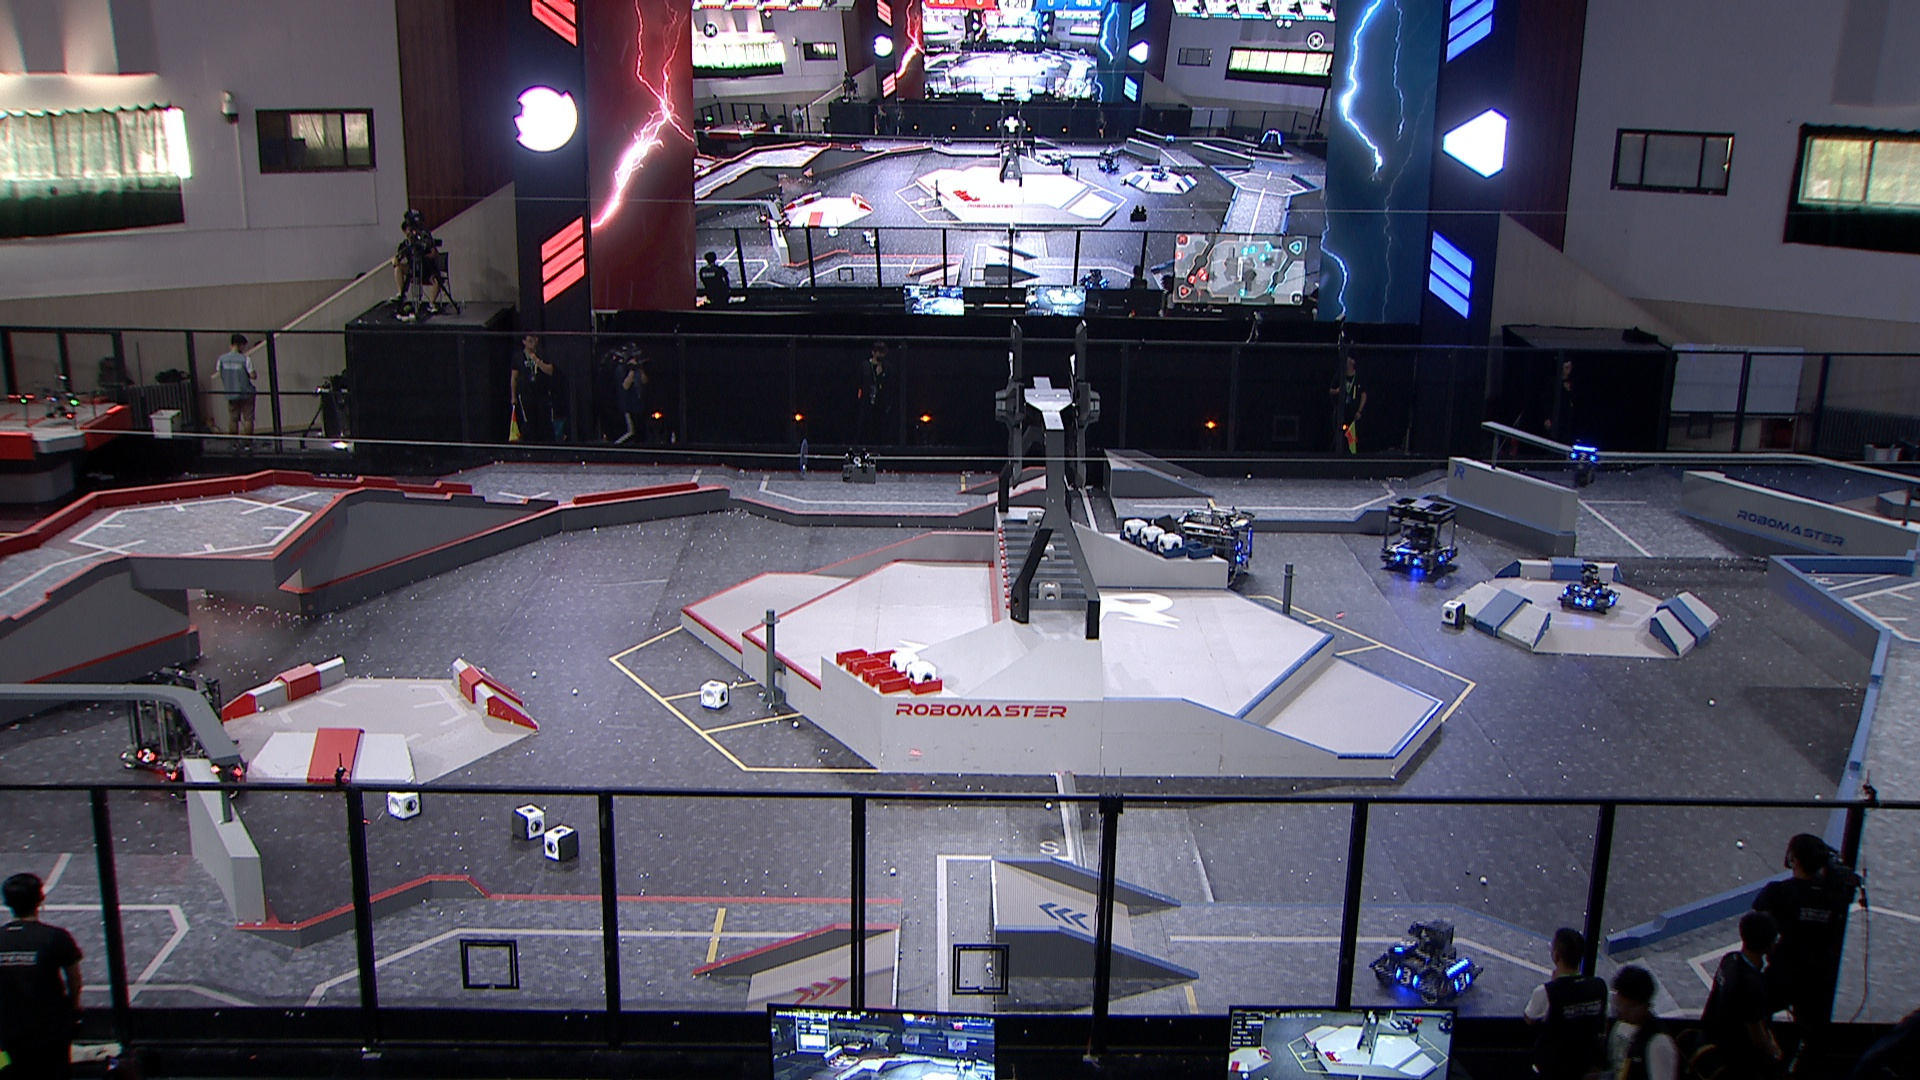armor: (1395, 965, 1420, 992), (135, 746, 158, 767), (1571, 451, 1600, 465), (1451, 973, 1472, 993), (1395, 553, 1420, 567), (1395, 939, 1416, 955), (233, 761, 251, 779), (1575, 595, 1594, 611), (1575, 584, 1602, 595), (1436, 551, 1456, 564), (1607, 589, 1621, 605), (1236, 550, 1247, 564)
car: (119, 669, 225, 778), (1371, 920, 1485, 1007), (1174, 504, 1254, 589), (1377, 498, 1460, 580), (164, 732, 252, 802), (1557, 566, 1622, 616)
ignore: (756, 193, 789, 223), (1253, 129, 1287, 154), (1077, 268, 1110, 291), (1098, 145, 1122, 174), (1048, 150, 1072, 173), (775, 216, 793, 233), (1162, 135, 1176, 150), (1153, 167, 1168, 181)
watcher: (1567, 443, 1602, 488)
